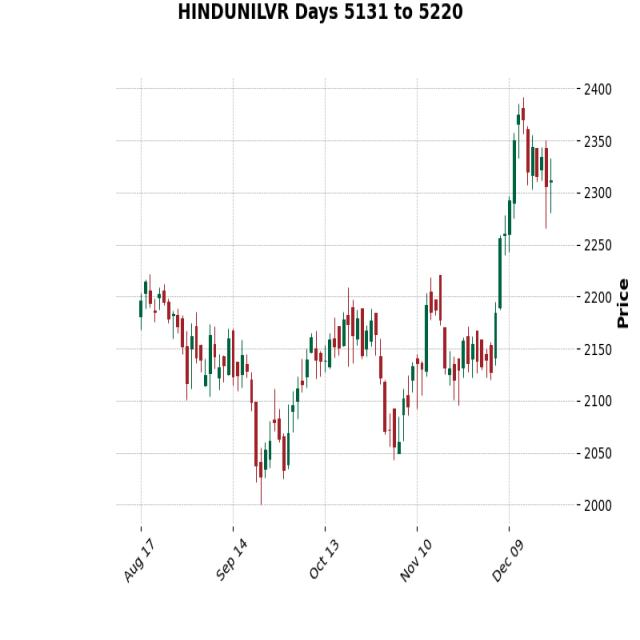flag-and-pole: (492, 101, 558, 376)
